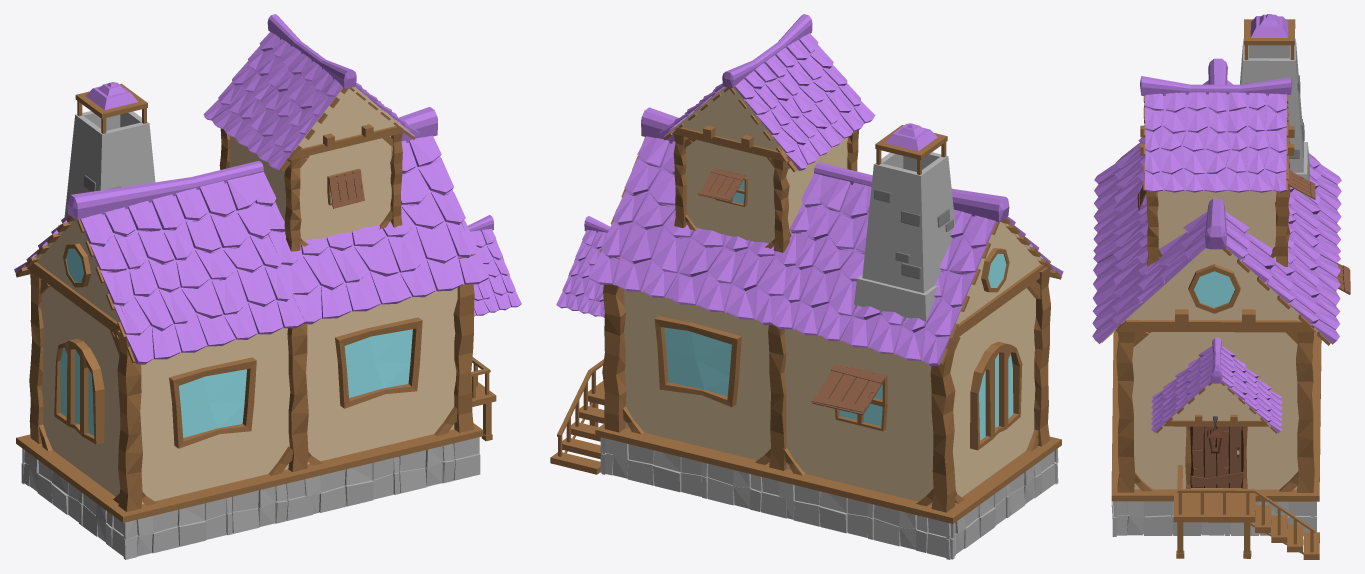
File: House3.fbx
3 views of the same model, side by side, from view 1: azimuth 30°, elevation 25°; view 2: azimuth 150°, elevation 25°; view 3: azimuth 270°, elevation 25° (orthographic). The views are drawn at different scales.
Parts seen in each view (by area): view 1: House3; view 2: House3; view 3: House3.
Part boxes in pixels (x1,y1,x2,y2): House3: (14,14,521,559); House3: (550,14,1063,559); House3: (1092,14,1350,559).
Size of the model in its own units: 4354 by 4025 by 2323.
